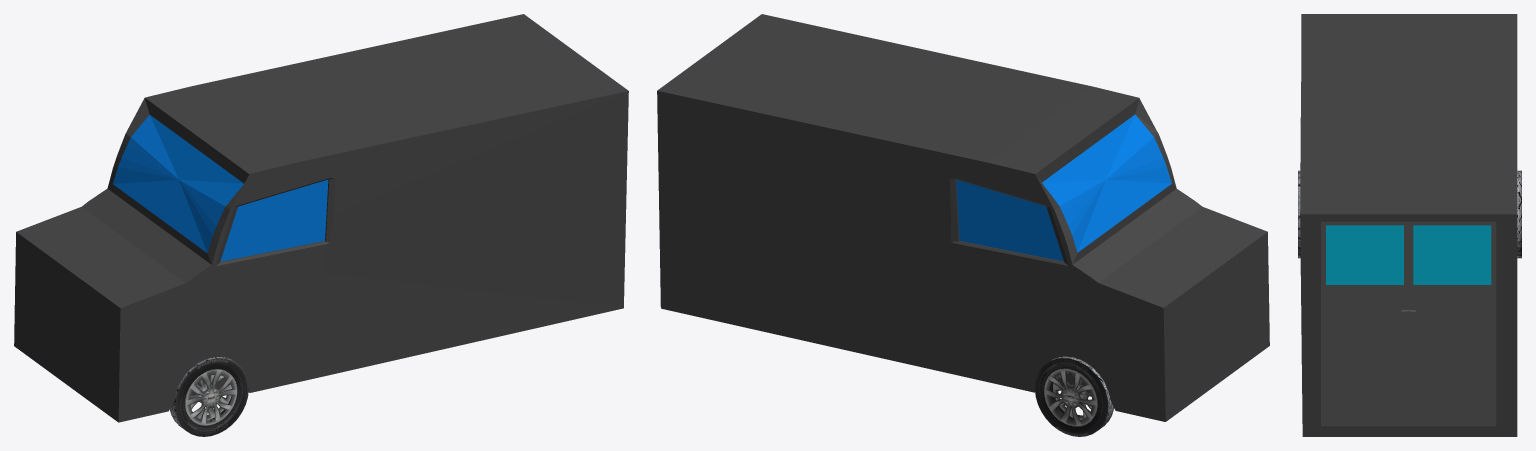
The model's file is ThiefVan.fbx.
3 views of the same model, side by side, from view 1: azimuth 30°, elevation 25°; view 2: azimuth 150°, elevation 25°; view 3: azimuth 270°, elevation 25° (orthographic). The views are drawn at different scales.
Parts seen in each view (by area): view 1: Van, Reifen.001; view 2: Van, Reifen; view 3: Van, Door1, Door2, Reifen, Reifen.001.
Boxes of the visible parts, x1,y1,x2,y2 form: Van: [14, 14, 628, 422]; Reifen.001: [169, 357, 248, 436]; Van: [657, 14, 1269, 421]; Reifen: [1035, 356, 1114, 436]; Van: [1300, 14, 1517, 436]; Door1: [1408, 221, 1496, 426]; Door2: [1321, 221, 1408, 426]; Reifen: [1517, 170, 1521, 258]; Reifen.001: [1298, 170, 1300, 258].
Bounding box in the file's own units: 2171 × 1021 × 797.
